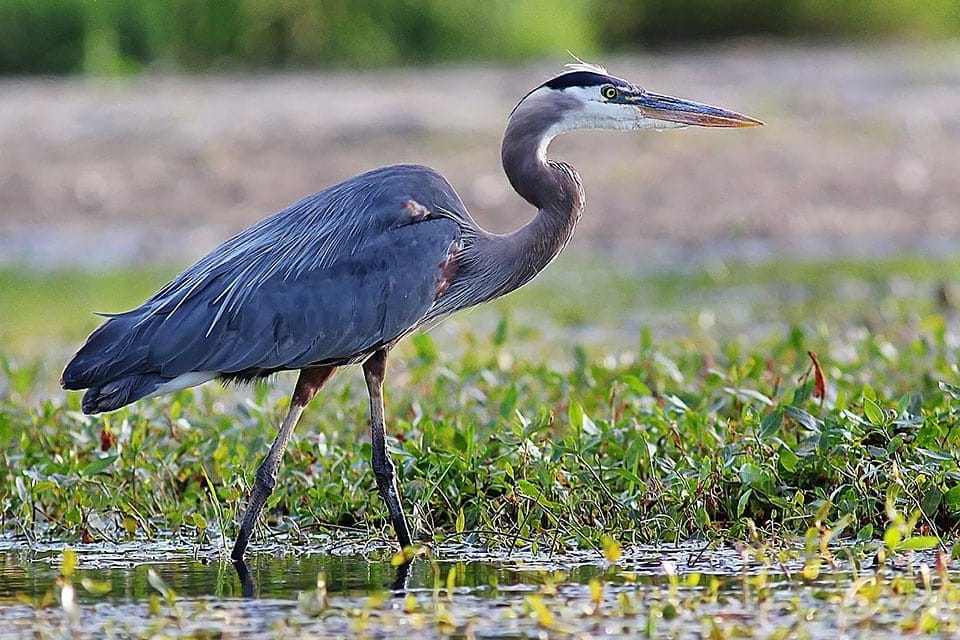heron: (52, 58, 769, 566)
